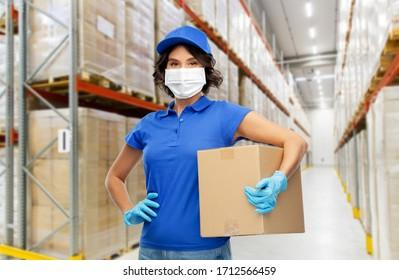gloves: (244, 171, 288, 214), (125, 192, 160, 225)
